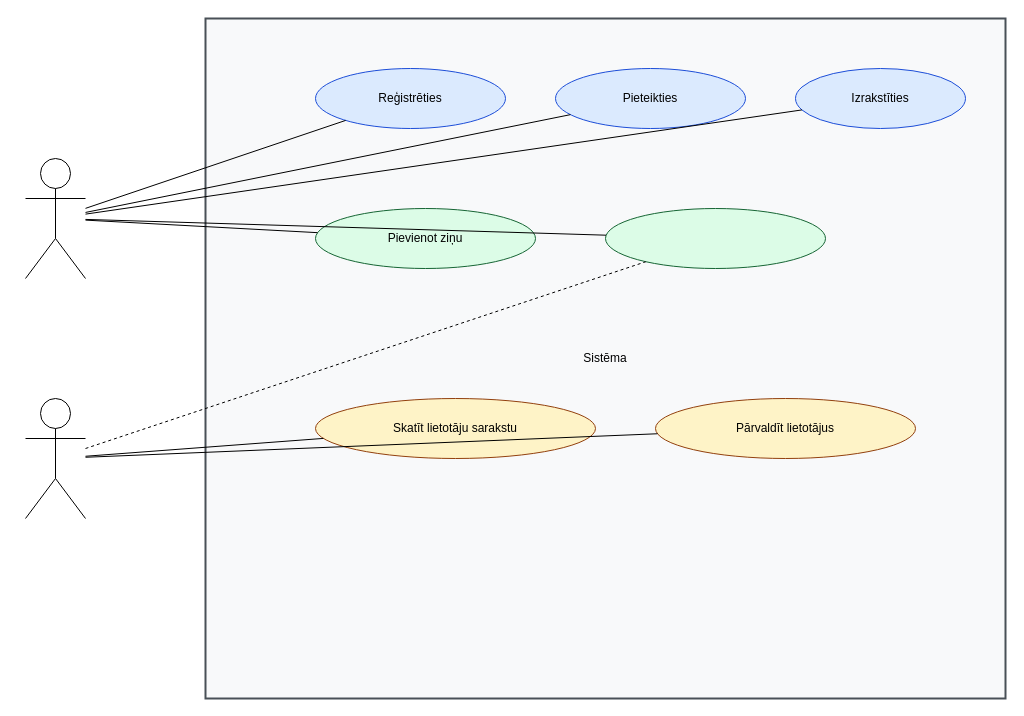
This 1024x716 diagram has some shape labels left out. Each missing label, with the centre of its shape:
"Administrators" belongs at (55,458).
"Lietotājs" belongs at (55,218).
"Skatīt ziņas" belongs at (715,238).
